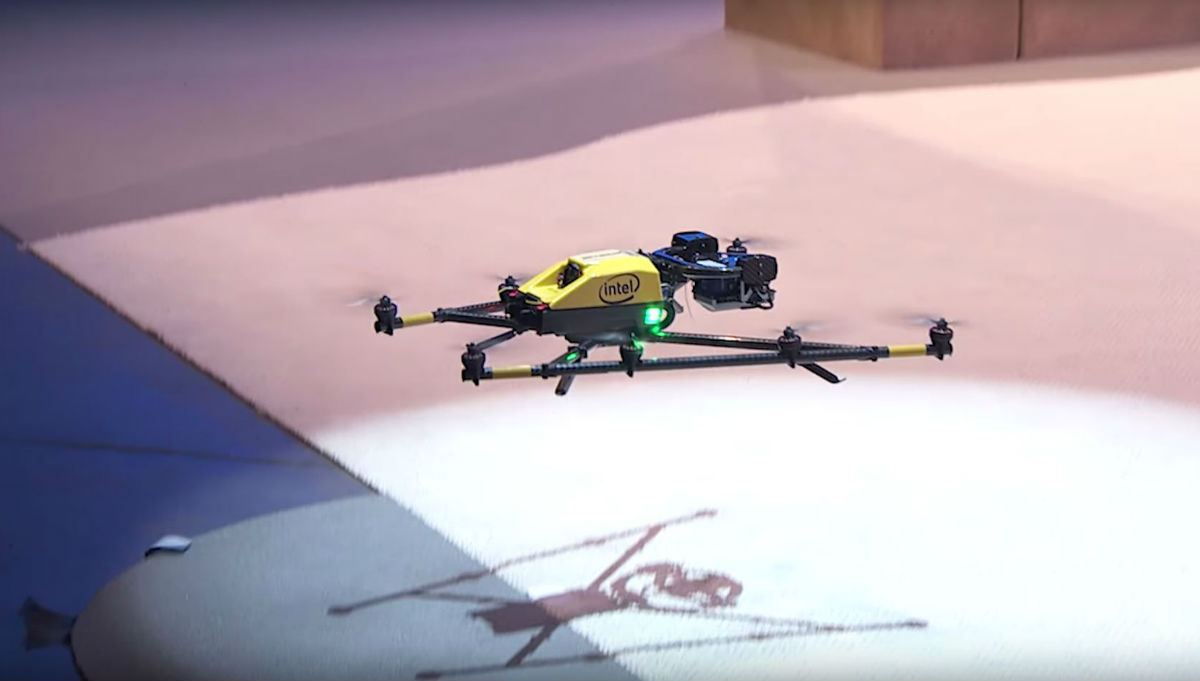drone: (332, 228, 980, 401)
shadow_of_drone: (325, 507, 936, 681)
